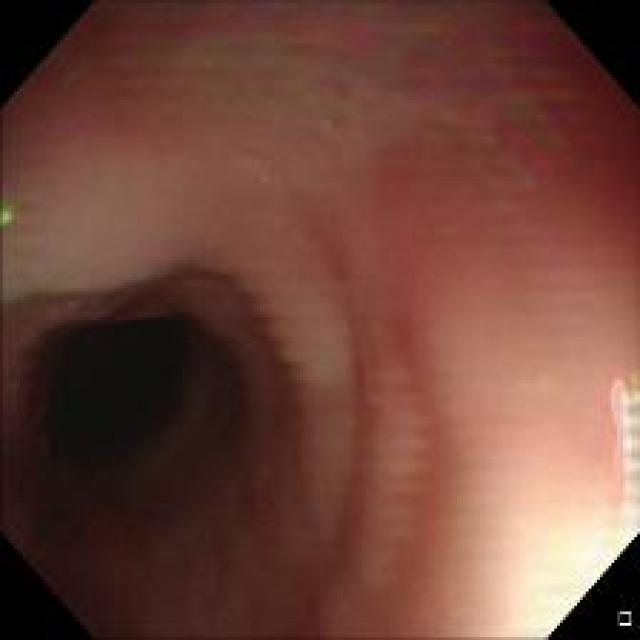blur: (1, 0, 634, 636)
color misalignment: (82, 25, 578, 176), (596, 366, 636, 549), (1, 194, 19, 234)
contrast: (24, 282, 278, 564)
saturation: (505, 506, 632, 635)
